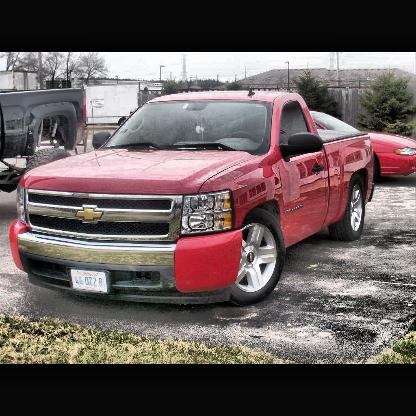Chevrolet Silverado 1500 Regular Cab 2012: (10, 89, 375, 308)
